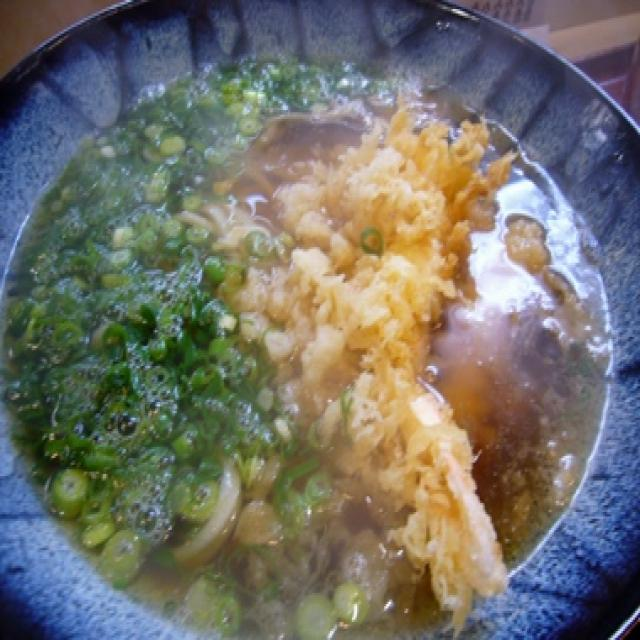面条主食: (8, 54, 610, 613)
